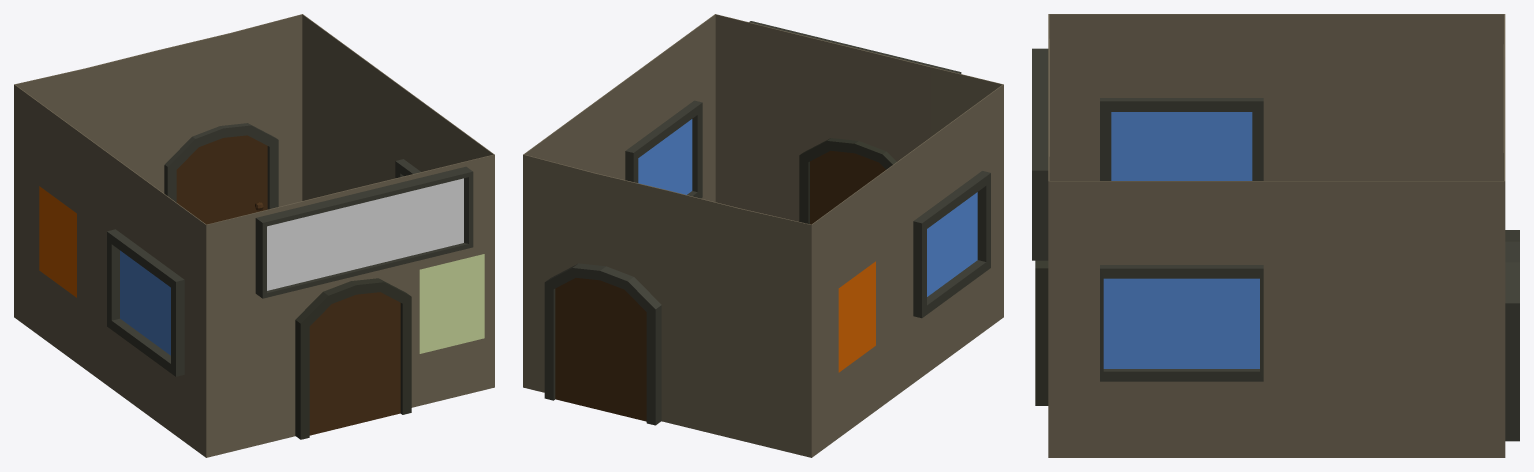
The model's file is CajaCasa 2.1 Interior.fbx.
3 renders of one model, left to right at view 1: azimuth 30°, elevation 25°; view 2: azimuth 150°, elevation 25°; view 3: azimuth 270°, elevation 25°, orthographic. The views are drawn at different scales.
Visible parts, largest first — view 1: Base.005; view 2: Base.005; view 3: Base.005.
Boxes of the visible parts, box(x1,y1,x2,y2) form: Base.005: box(14, 14, 494, 457); Base.005: box(523, 14, 1003, 457); Base.005: box(1032, 14, 1519, 457).
Bounding box in the file's own units: 548 × 401 × 641.
